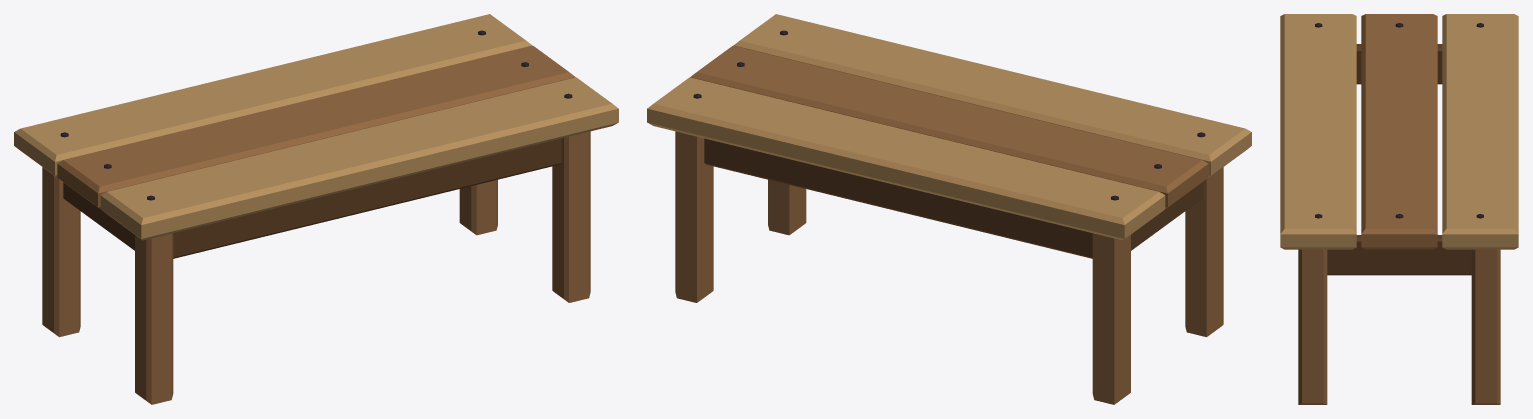
File: Table_09.glb
The picture shows the model from 3 angles, left to right: view 1: azimuth 30°, elevation 25°; view 2: azimuth 150°, elevation 25°; view 3: azimuth 270°, elevation 25°; orthographic projection. The views are drawn at different scales.
Visible parts, largest first — view 1: Table_09; view 2: Table_09; view 3: Table_09.
Boxes of the visible parts, box(x1,y1,x2,y2) form: Table_09: box(14, 14, 618, 404); Table_09: box(647, 14, 1251, 404); Table_09: box(1280, 14, 1518, 404).
Size of the model in its own units: 7.14 by 2.83 by 3.29.
